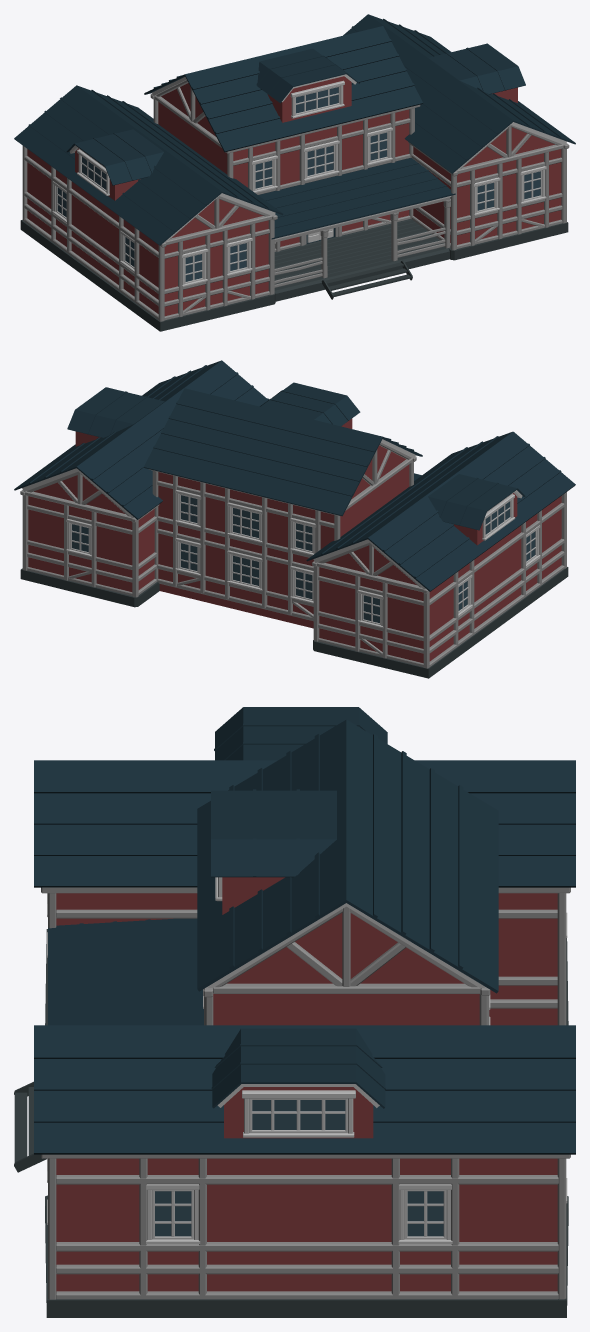
Rendered from house_14.glb.
The picture shows the model from 3 angles, top to bottom: view 1: azimuth 30°, elevation 25°; view 2: azimuth 150°, elevation 25°; view 3: azimuth 270°, elevation 25°; orthographic projection. The views are drawn at different scales.
Visible parts, largest first — view 1: house_14; view 2: house_14; view 3: house_14.
Boxes of the visible parts, x1,y1,x2,y2 form: house_14: (14, 14, 575, 331); house_14: (14, 360, 575, 678); house_14: (14, 707, 575, 1317).
Size of the model in its own units: 23.01 by 9.25 by 14.42.
1 material, 1 textured.
